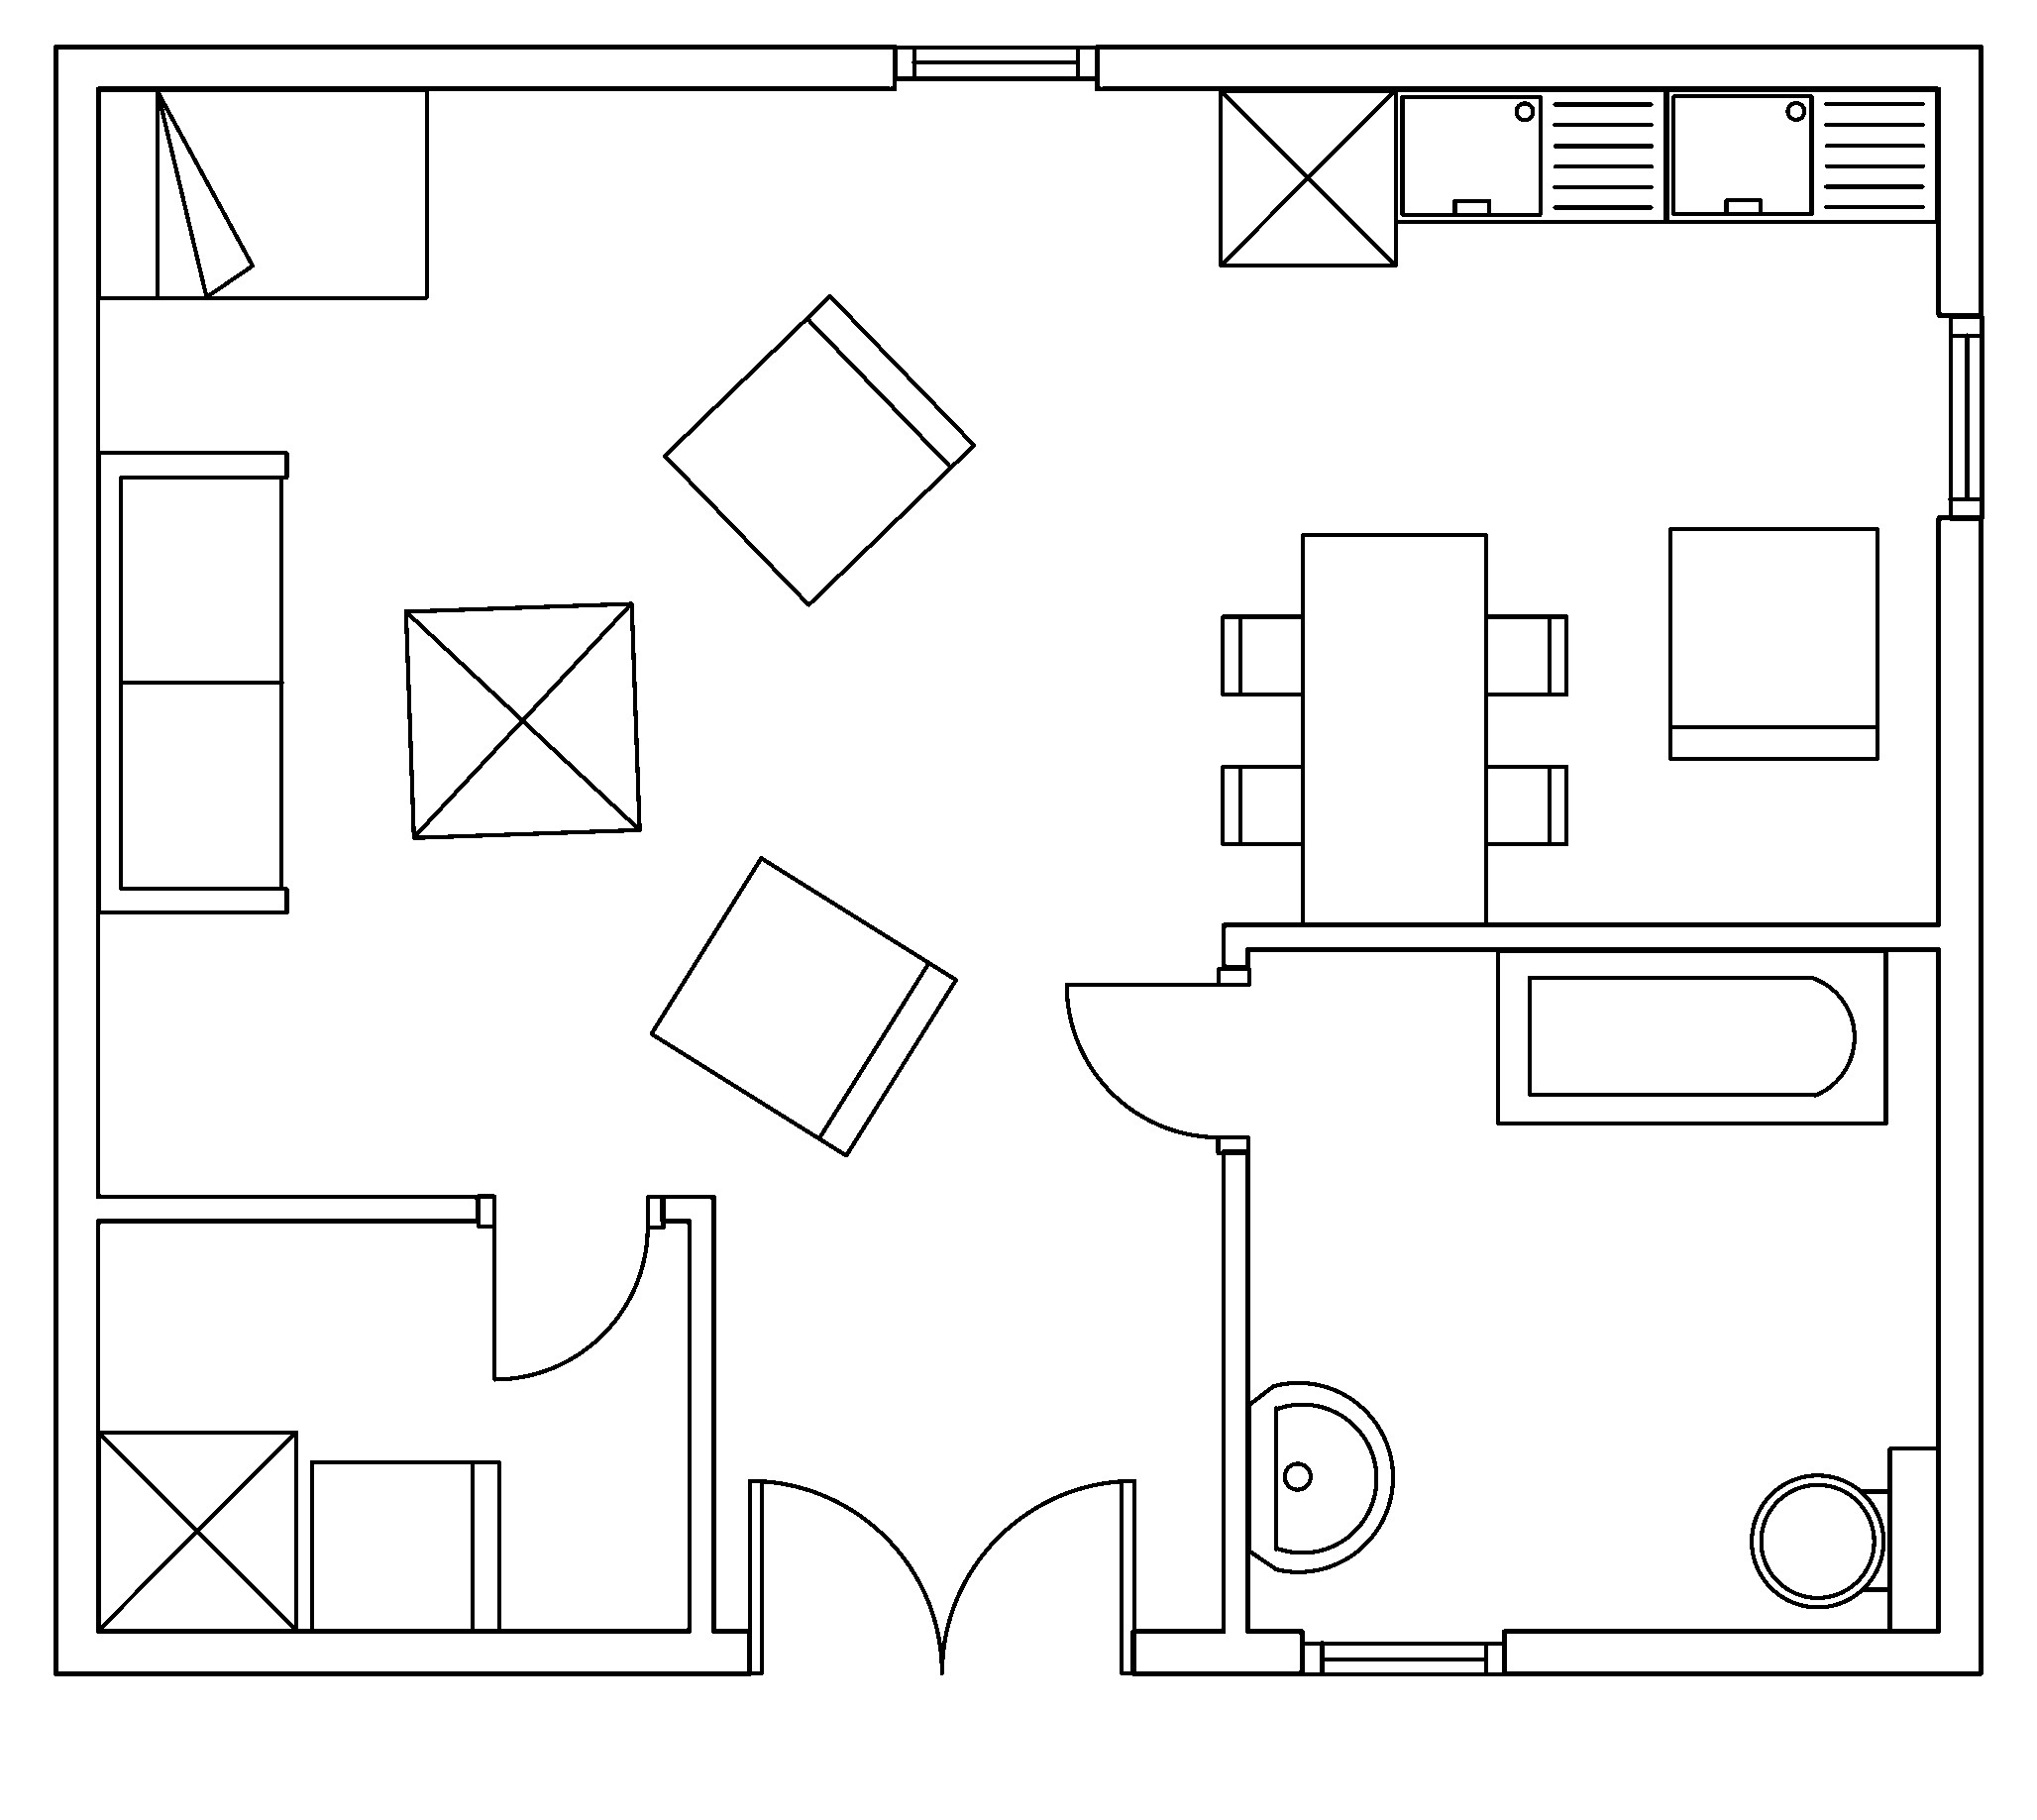bed: (95, 86, 428, 300)
coffee_table: (402, 599, 643, 840), (95, 1428, 299, 1632), (1217, 86, 1398, 267)
dining_table: (1219, 531, 1568, 926)
large_sink: (1749, 1444, 1940, 1632)
large_sofa: (95, 448, 290, 915)
sink: (1663, 86, 1940, 223), (1393, 86, 1668, 223)
small_sink: (1245, 1381, 1394, 1572)
small_sofa: (660, 292, 976, 608), (646, 854, 959, 1158), (1666, 525, 1879, 761), (307, 1458, 500, 1632)
tub: (1494, 947, 1888, 1126)
